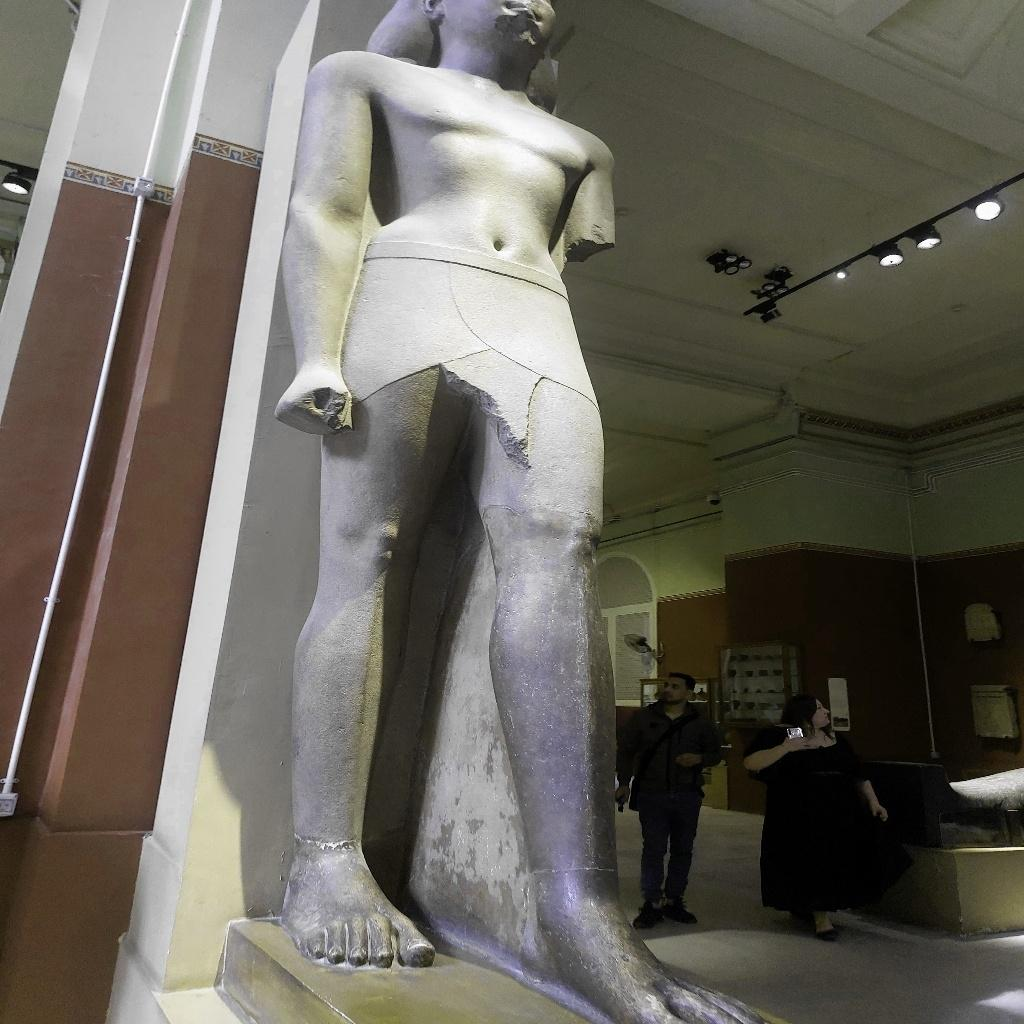Colossal Statue of Hormoheb: (232, 2, 766, 1020)
